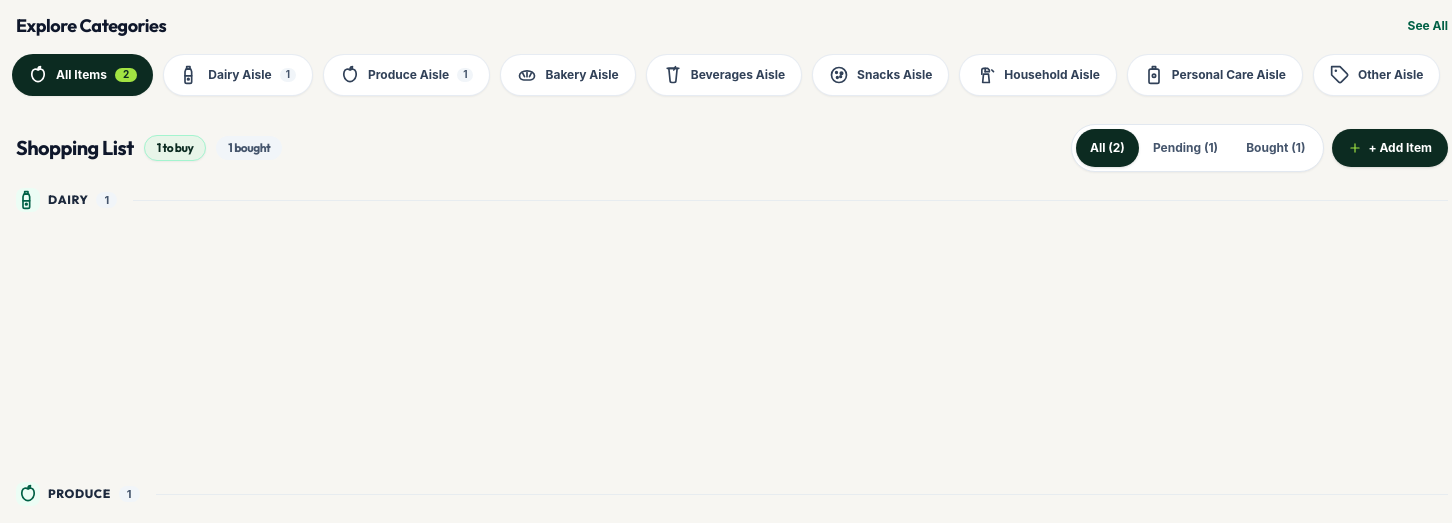
Test: ShoppingList Component › filters items by status pills (Pending vs Bought)
Click Pending filter pill
Click the button "Pending (1)" at {"x": 1186, "y": 148}, box [1139,129,1232,167]
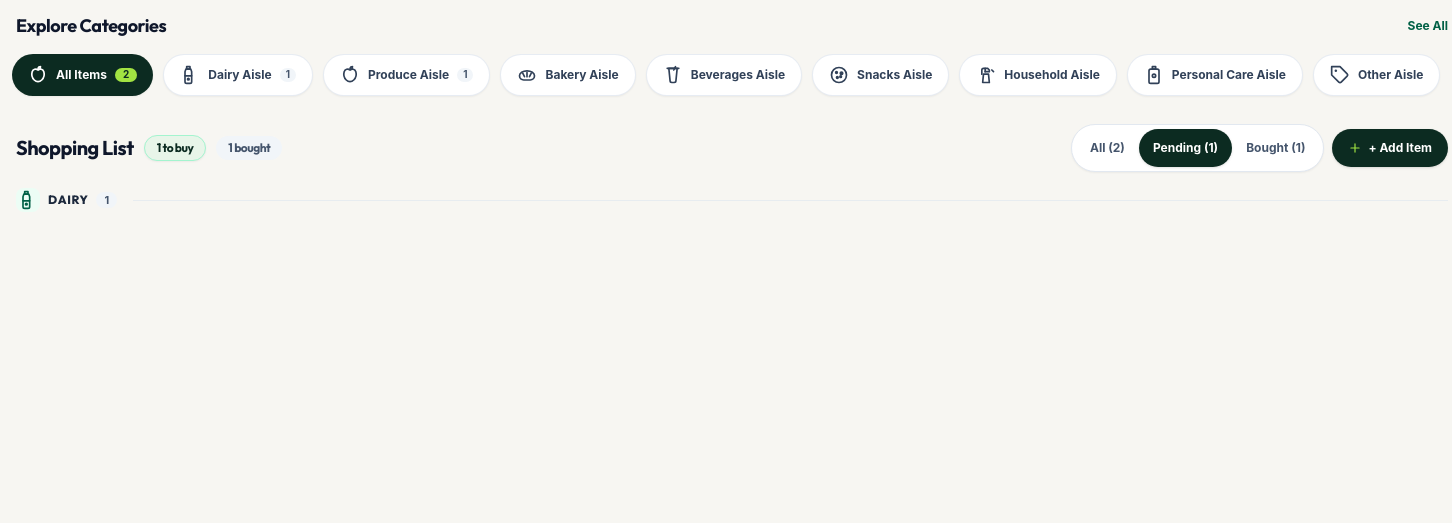
Check: the text "Fresh Honeycrisp Apples" is not shown
Click Bought filter pill
Click the button "Bought (1)" at {"x": 1276, "y": 148}, box [1232,129,1319,167]
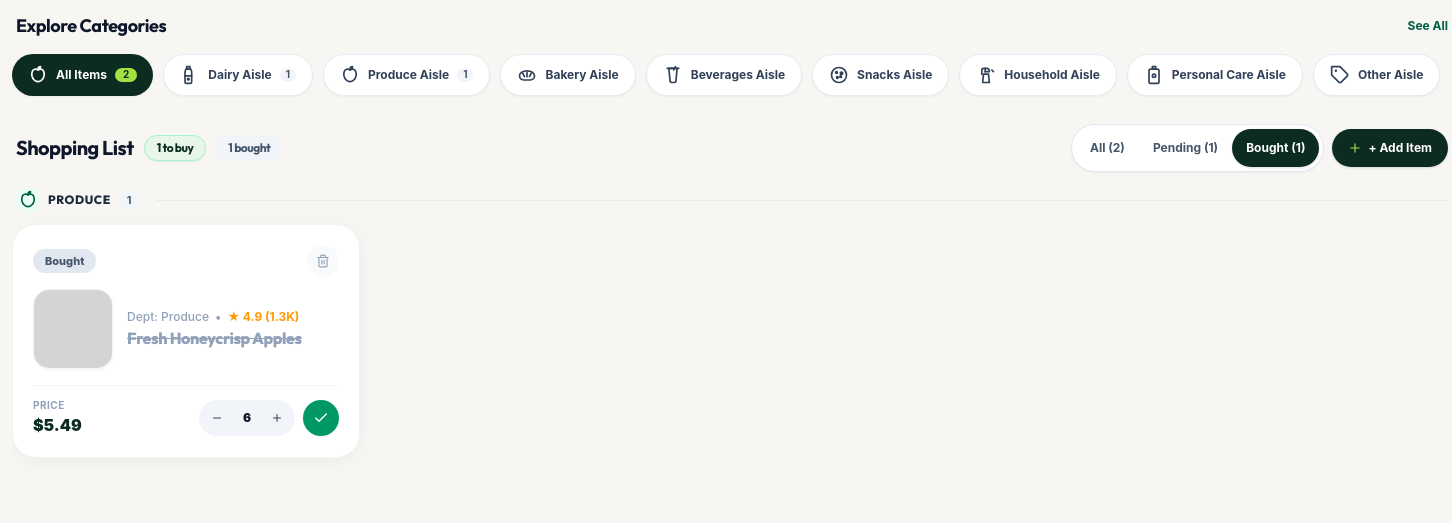
Check: the heading "Fresh Honeycrisp Apples" is shown, box [127,328,302,348]
